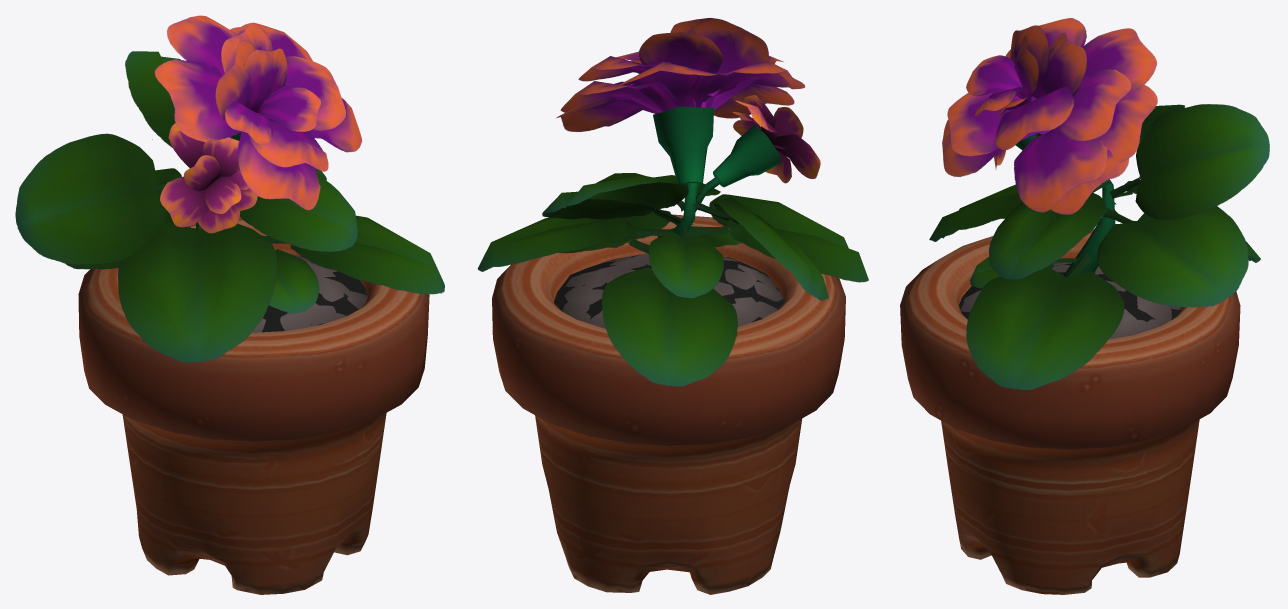
File: flowerType1.glb
The picture shows the model from 3 angles, left to right: view 1: azimuth 30°, elevation 25°; view 2: azimuth 150°, elevation 25°; view 3: azimuth 270°, elevation 25°; orthographic projection. The views are drawn at different scales.
Visible parts, largest first — view 1: pot_low, leaf_instance6, leaf_instance5, leaf_instance1, leaf_instance2, petal8, soil_low, petal5, leaf_instance4, petal10, petal2, leaf_instance9 (+14 smaller); view 2: pot_low, leaf_instance7, soil_low, leaf_instance6, leaf_instance3, leaf_instance4, leaf_instance8, flowerBase_instance, leaf_instance5, petal11, petal7, petal10 (+10 smaller); view 3: pot_low, leaf_instance1, leaf_instance4, leaf_instance3, leaf_instance2, petal9, petal3, petal10, petal4, petal2, soil_low, petal1 (+12 smaller).
Boxes of the visible parts, x1,y1,x2,y2 form: pot_low: [78, 217, 429, 594]; leaf_instance6: [118, 222, 277, 362]; leaf_instance5: [15, 133, 167, 264]; leaf_instance1: [262, 215, 444, 294]; leaf_instance2: [240, 174, 357, 251]; petal8: [154, 59, 241, 142]; soil_low: [252, 254, 367, 332]; petal5: [237, 131, 320, 210]; leaf_instance4: [125, 51, 180, 147]; petal10: [167, 15, 237, 75]; petal2: [257, 56, 345, 131]; leaf_instance9: [268, 249, 319, 313]; pot_low: [492, 214, 845, 594]; leaf_instance7: [601, 267, 737, 386]; soil_low: [554, 253, 784, 328]; leaf_instance6: [681, 194, 868, 282]; leaf_instance3: [477, 217, 673, 271]; leaf_instance4: [542, 175, 693, 225]; leaf_instance8: [649, 227, 723, 298]; flowerBase_instance: [653, 106, 713, 185]; leaf_instance5: [692, 197, 828, 300]; petal11: [688, 18, 768, 110]; petal7: [639, 32, 722, 72]; petal10: [616, 61, 716, 111]; pot_low: [900, 228, 1240, 594]; leaf_instance1: [966, 252, 1124, 390]; leaf_instance4: [1109, 104, 1269, 219]; leaf_instance3: [1097, 206, 1248, 307]; leaf_instance2: [989, 180, 1111, 279]; petal9: [1014, 130, 1107, 212]; petal3: [1051, 69, 1131, 141]; petal10: [1083, 28, 1156, 90]; petal4: [947, 92, 1020, 156]; petal2: [994, 86, 1073, 150]; soil_low: [959, 262, 1180, 339]; petal1: [1099, 84, 1157, 162].
Size of the model in its own units: 1.02 by 1.44 by 0.9391.
1 material, 1 textured.
